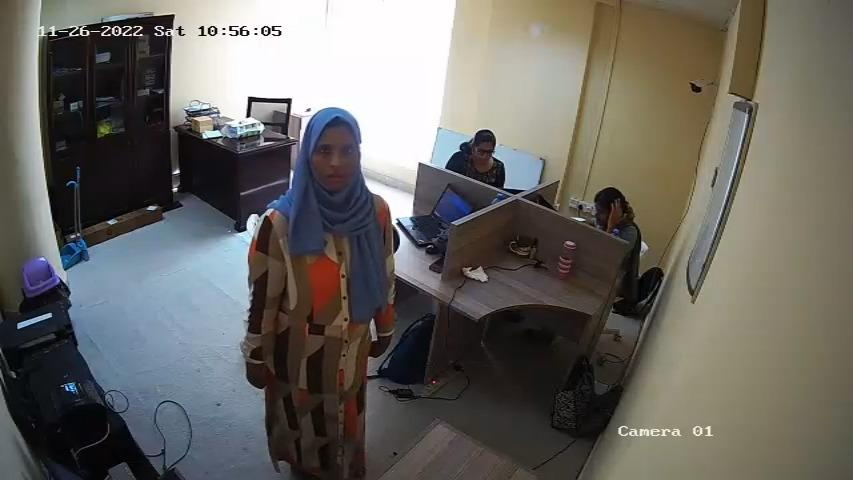no_apron: (274, 207, 368, 414), (419, 216, 419, 217)
